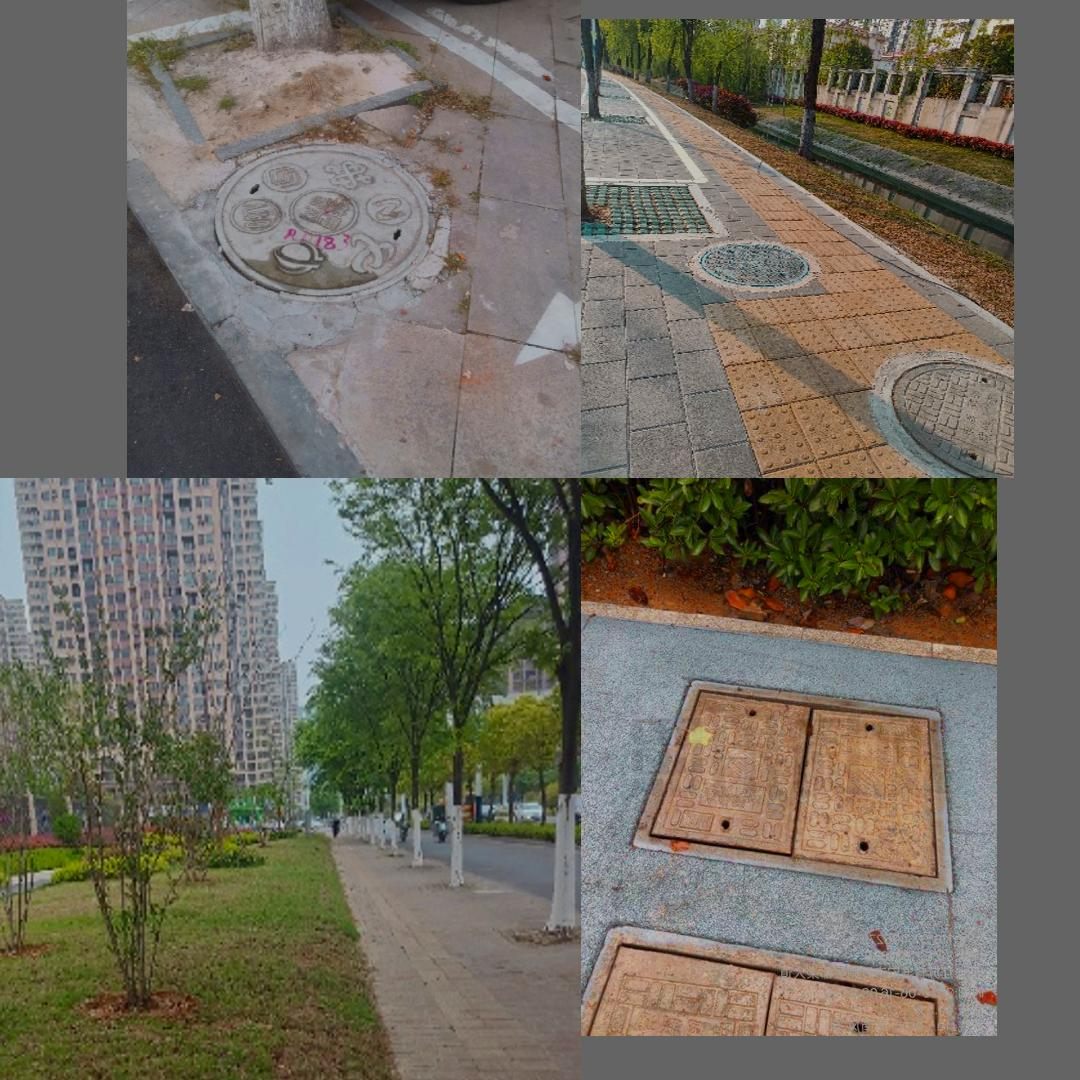good: (632, 676, 954, 891), (581, 926, 954, 1036), (215, 147, 437, 299), (891, 357, 1014, 476), (699, 243, 810, 287)
